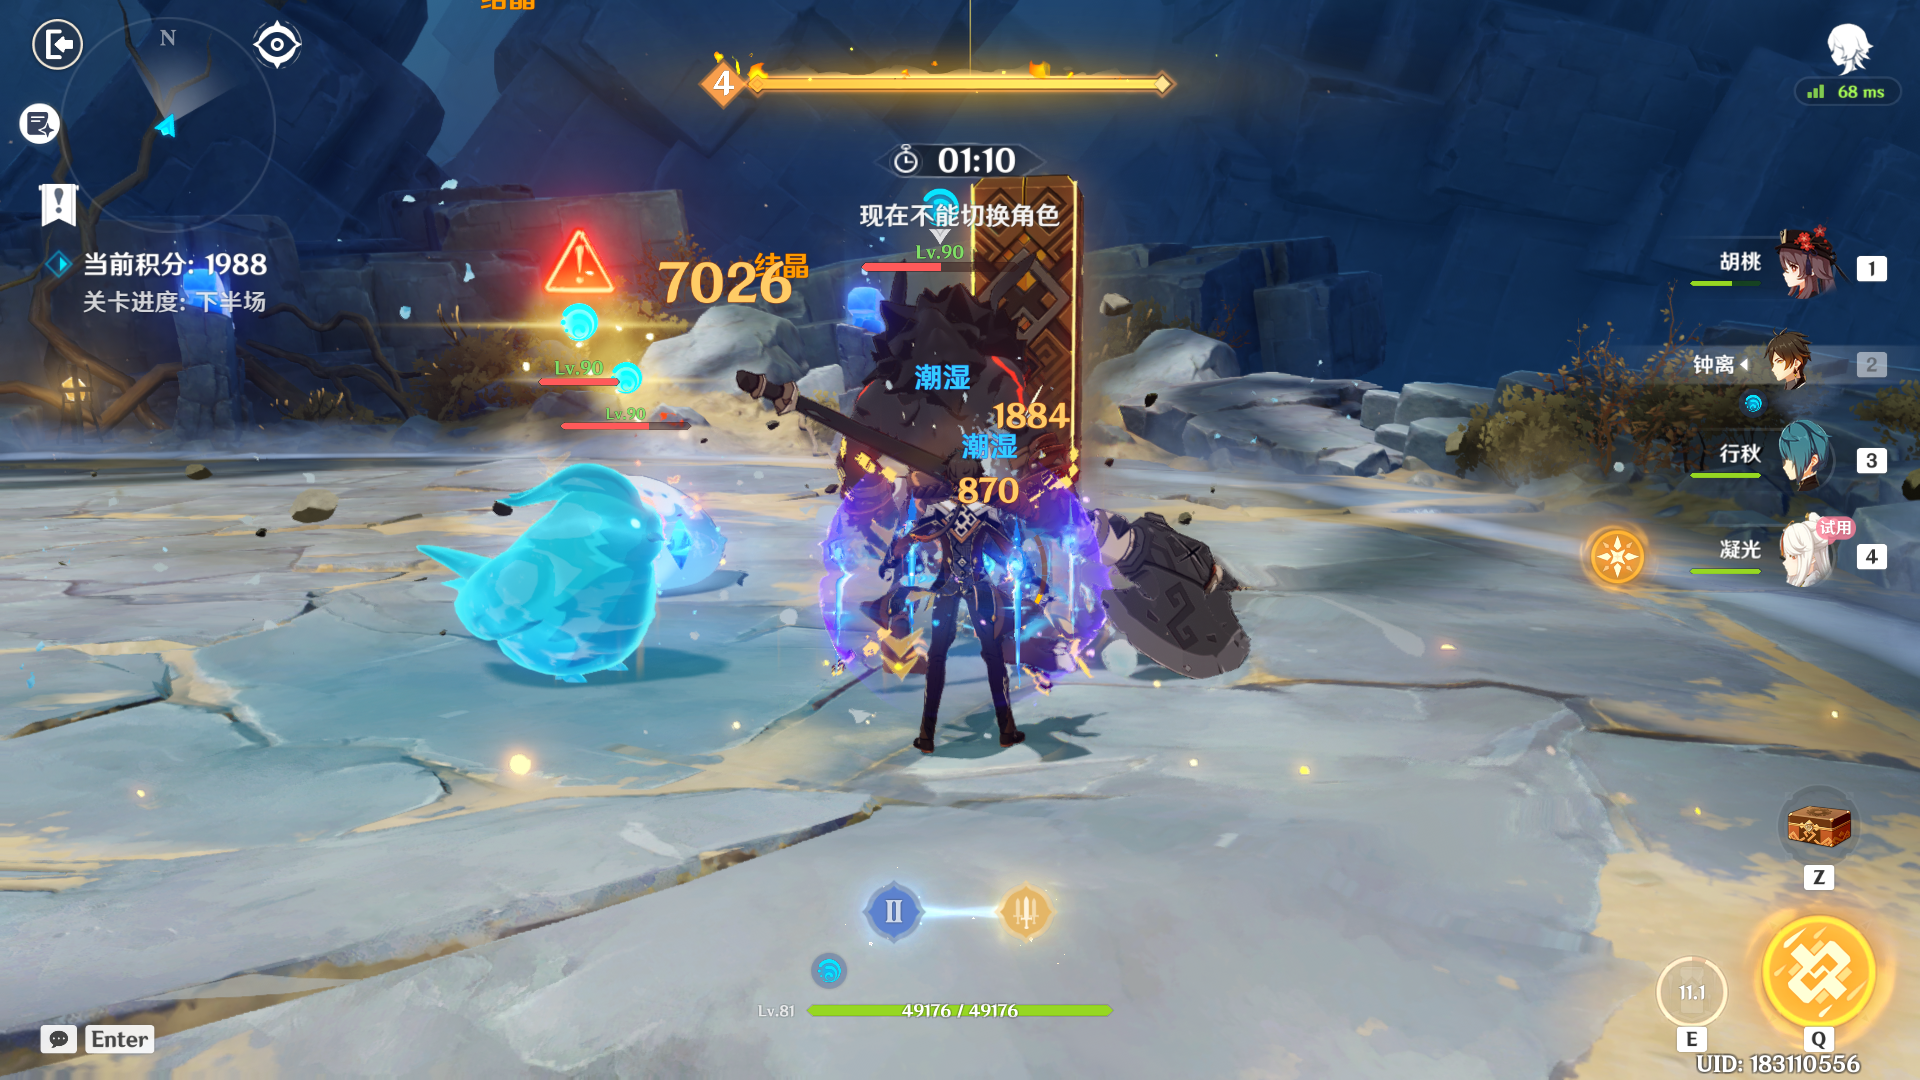bighili: (765, 225, 1129, 665)
character: (861, 442, 1088, 766)
